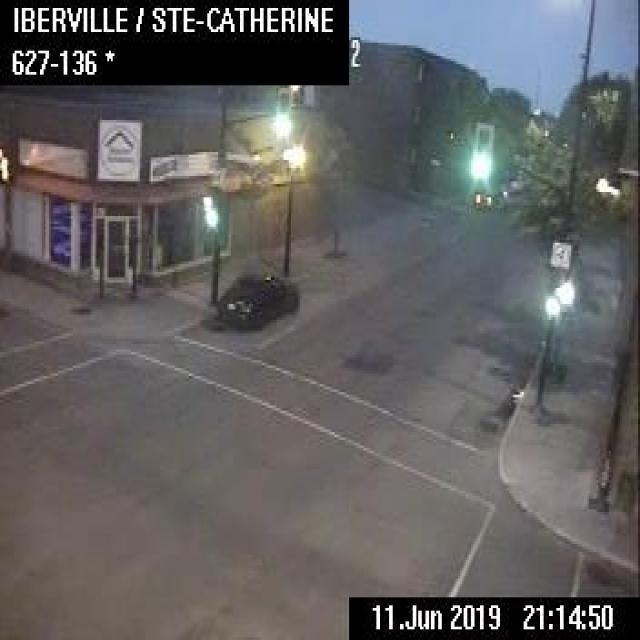vehicle: (211, 266, 298, 331), (473, 184, 501, 210)
